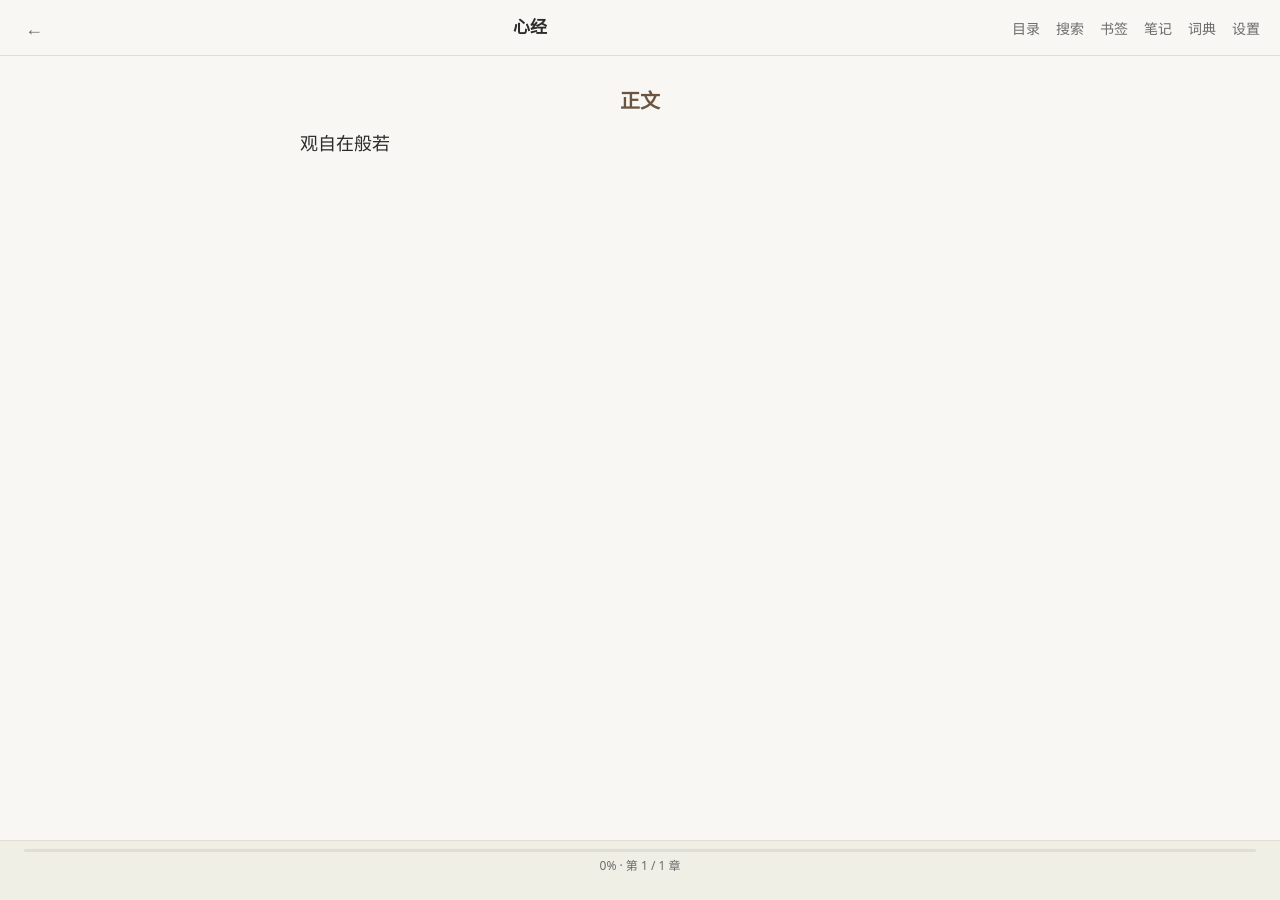
Test case: ReaderView（§8.1 / §8.3 集成） › 书签闭环（§6.5）：添加 → 列表 → 回看走像素路径（scrollToProgress）
Click the button "书签". click: (1114, 28)
box: [1092,6,1136,50]
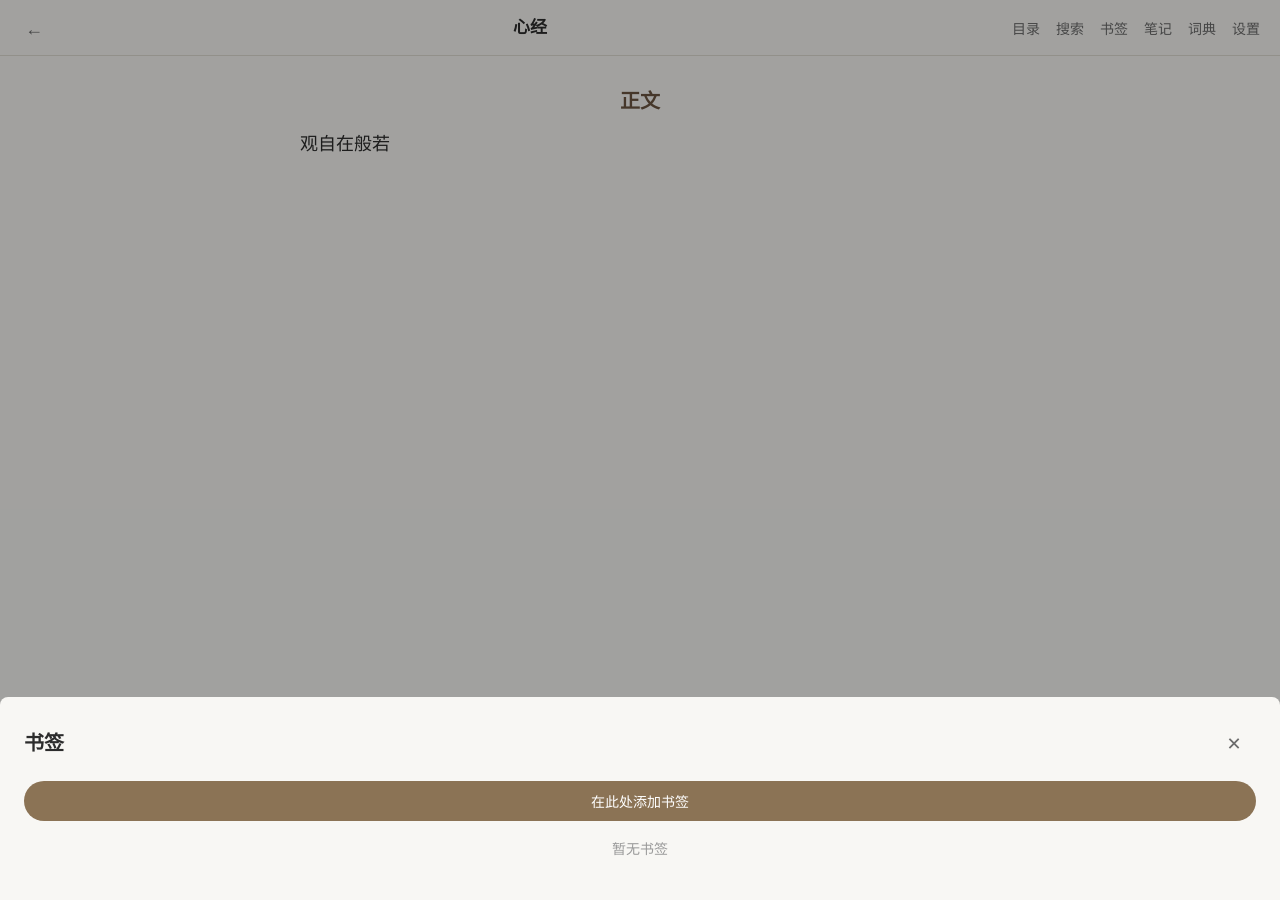
Expected: the element with class "bookmarks" is shown, [24,781,1256,860]
// 添加：记当前章节 + 像素位置
Click the button with class "bookmarks__add". click: (640, 801)
box: [24,781,1256,821]
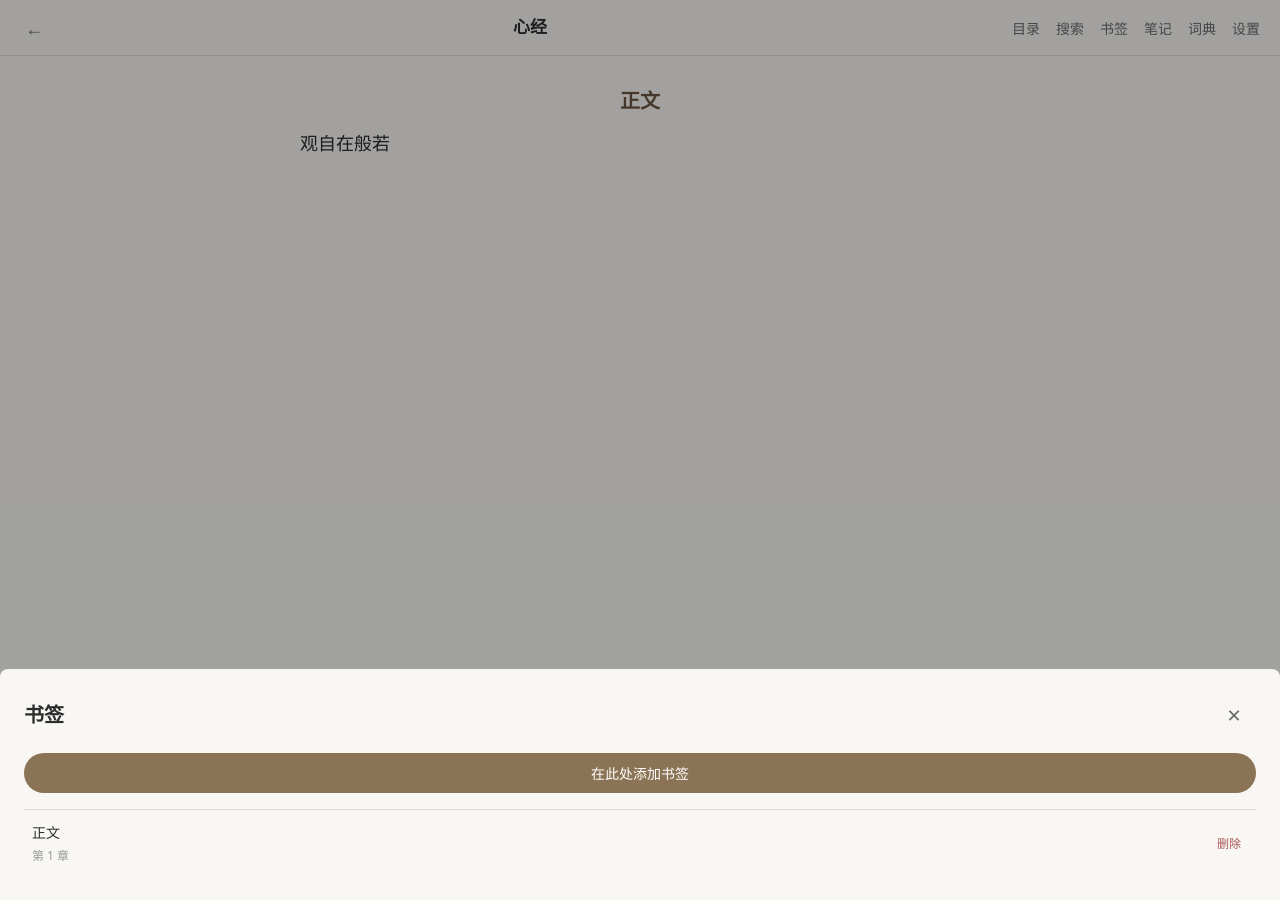
Expected: the number of buttons with class "bookmarks__entry" is 1, [24,810,1190,876]
